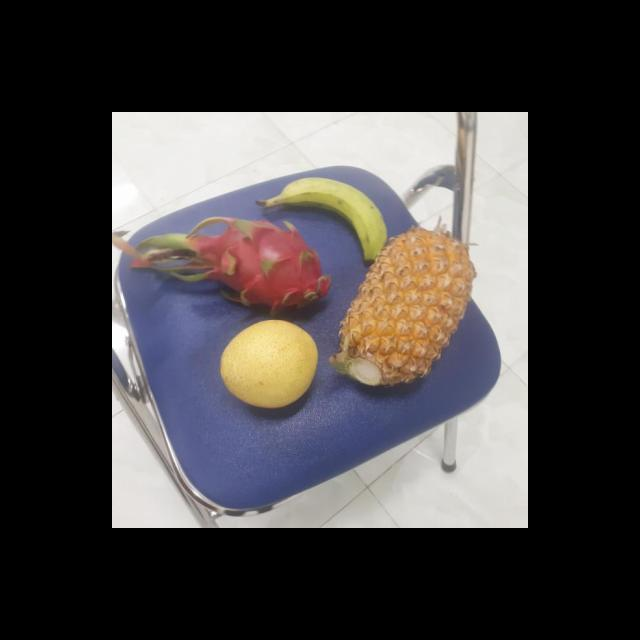banana: (275, 178, 389, 264)
pear: (218, 320, 322, 410)
pineapple: (335, 232, 477, 388)
pitaya: (192, 219, 334, 318)
